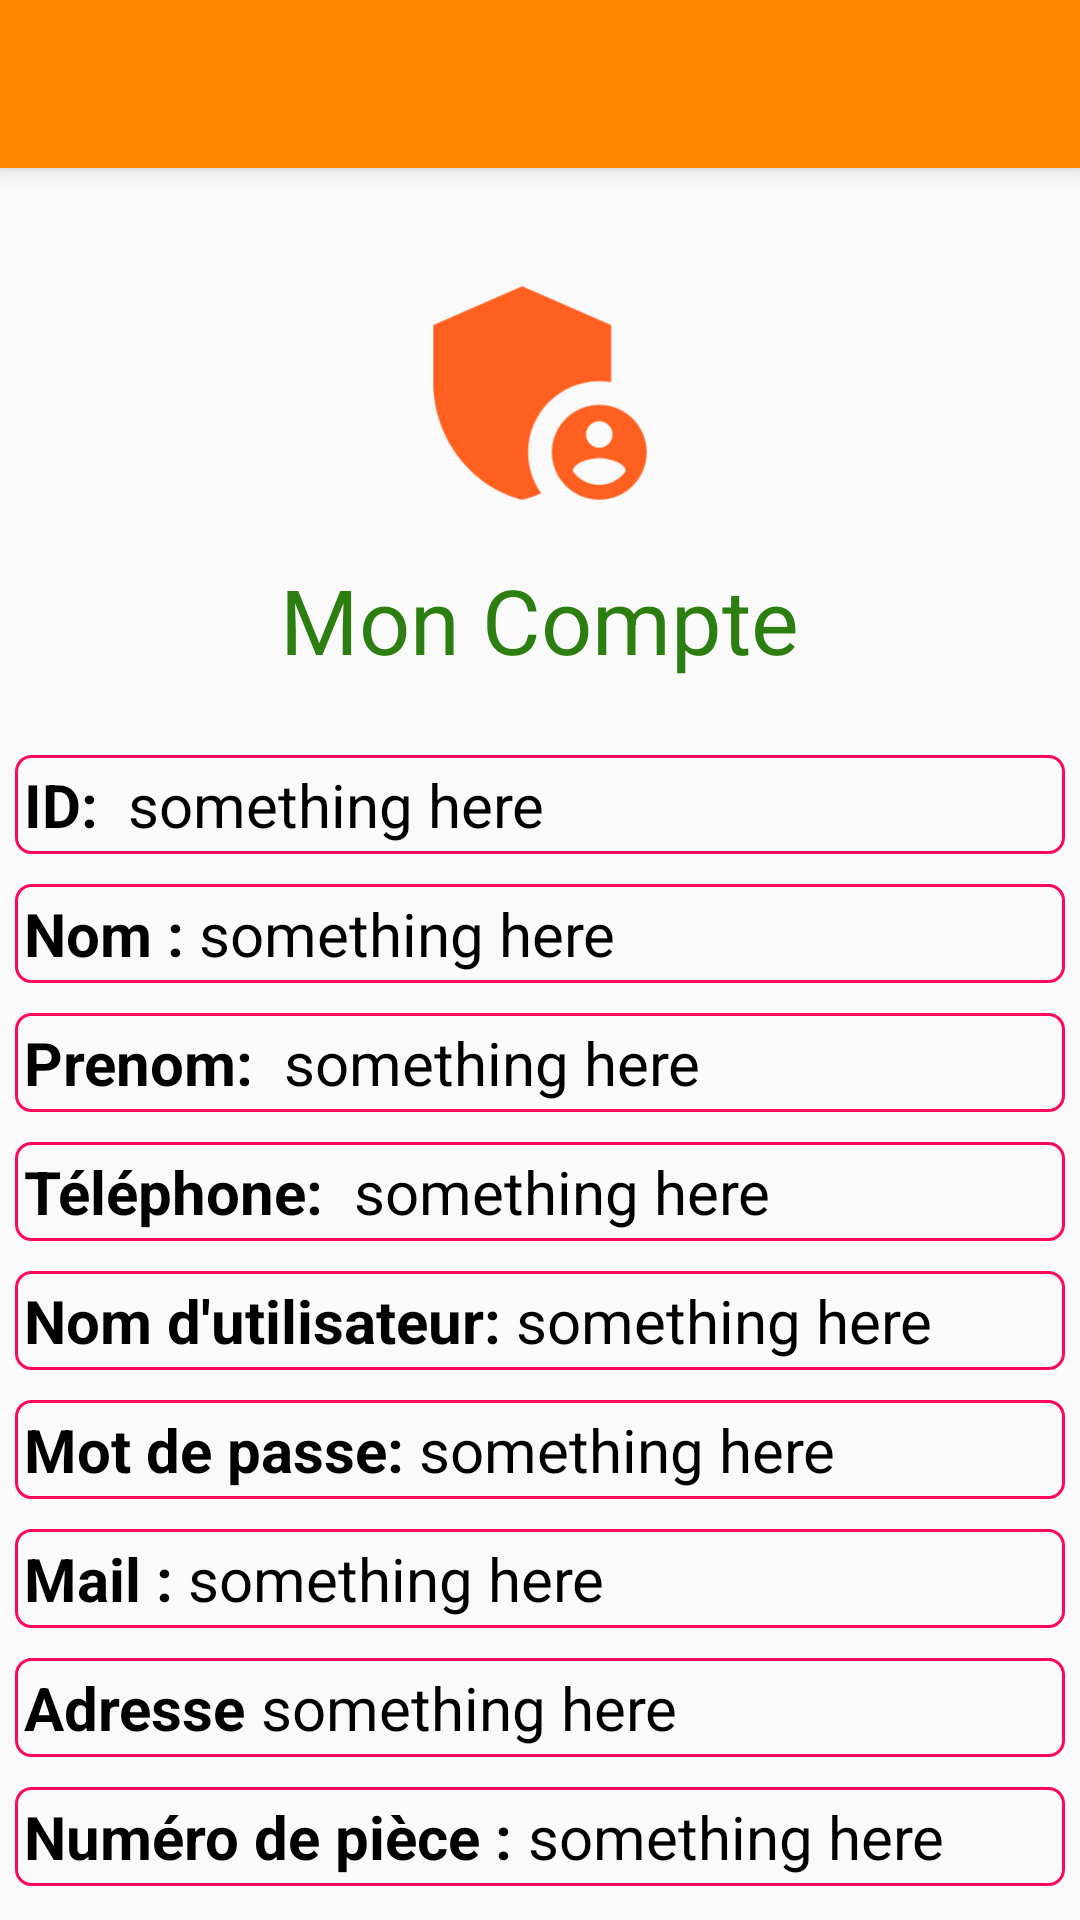

Where icons sit on this 1080px x 1920px app screen, as [x1,y1,x2,y2]:
admin: [433,286,647,500]
